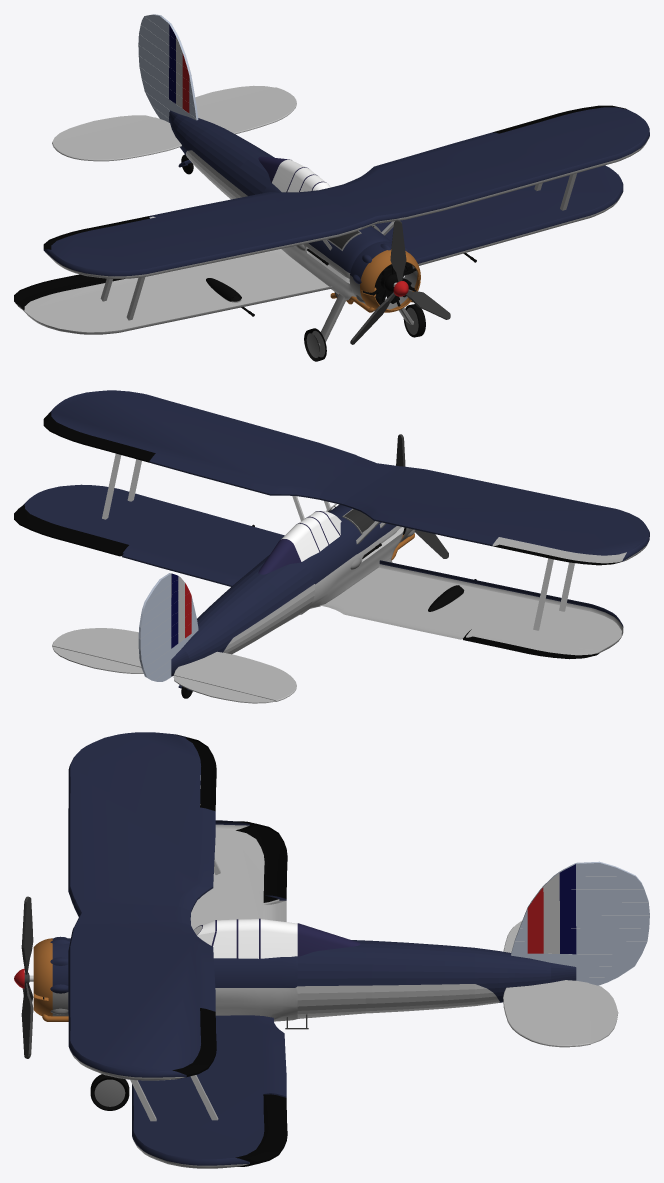
File: 卡通固定翼飞机.glb
The picture shows the model from 3 angles, top to bottom: view 1: azimuth 30°, elevation 25°; view 2: azimuth 150°, elevation 25°; view 3: azimuth 270°, elevation 25°; orthographic projection. The views are drawn at different scales.
Visible parts, largest first — view 1: Plane; view 2: Plane; view 3: Plane.
Part boxes in pixels (x1,y1,x2,y2): Plane: [14, 14, 649, 361]; Plane: [14, 390, 649, 703]; Plane: [14, 732, 649, 1168].
Size of the model in its own units: 48.61 by 14.53 by 38.34.
